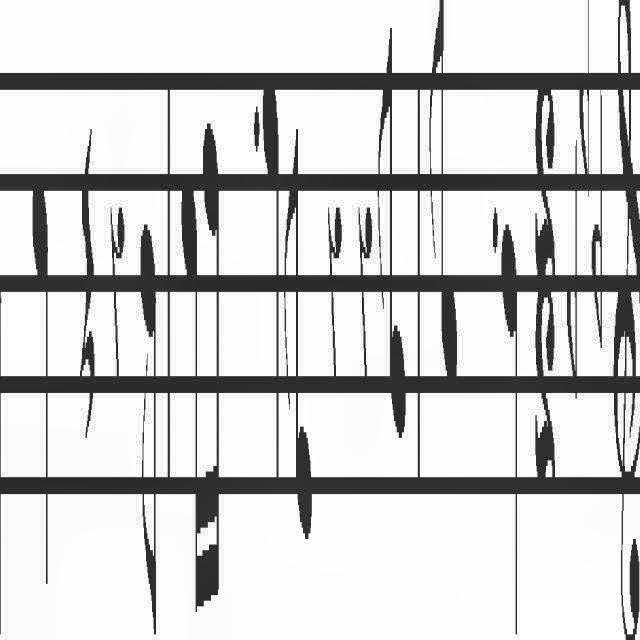Bass-clef: (610, 0, 640, 628)
Bemol: (565, 103, 583, 404), (592, 58, 608, 390), (578, 0, 598, 208)
Eighth-note: (377, 0, 415, 460), (424, 1, 464, 400), (283, 75, 313, 568), (140, 202, 160, 614)
Eighth-rest: (354, 181, 374, 431), (326, 160, 346, 408), (107, 160, 125, 386)
Quarter-note: (28, 160, 56, 604), (262, 50, 286, 538), (498, 168, 522, 640), (0, 167, 6, 628)
Quarter-rest: (74, 120, 98, 468)
Sixteenth-note: (201, 85, 225, 630), (178, 145, 200, 620)
